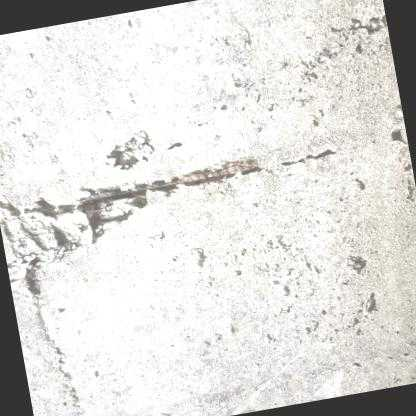crack: (81, 154, 266, 240)
